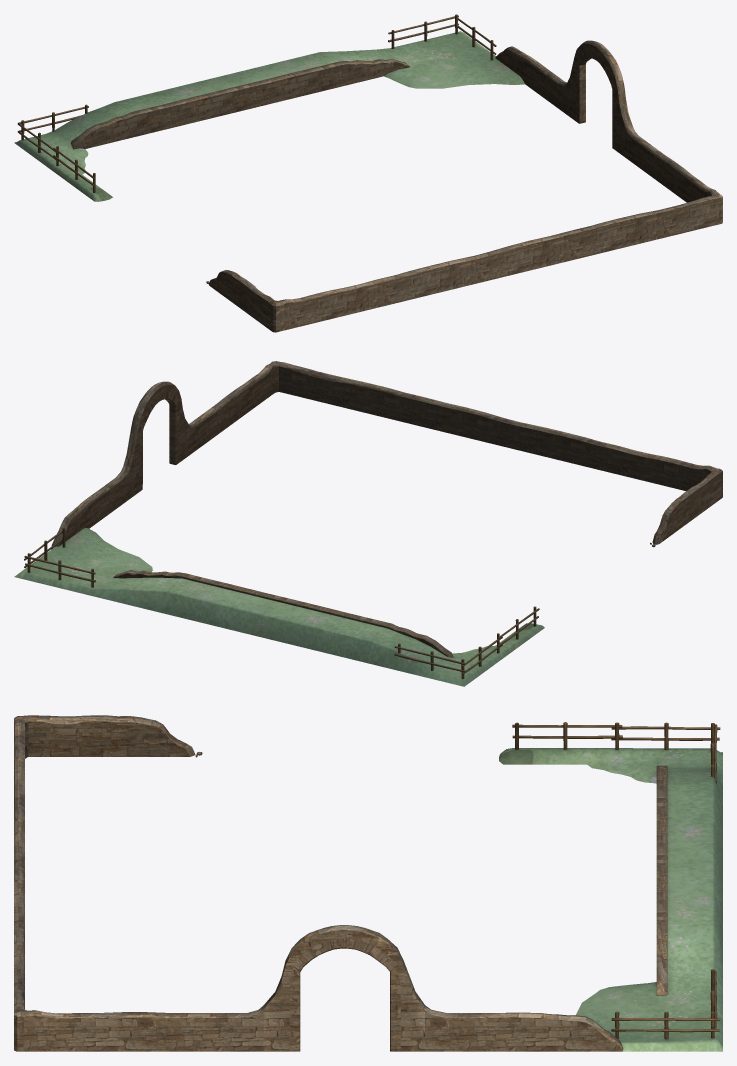
File: set_site.glb
3 views of the same model, one above another, from view 1: azimuth 30°, elevation 25°; view 2: azimuth 150°, elevation 25°; view 3: azimuth 270°, elevation 25° (orthographic). The views are drawn at different scales.
Parts seen in each view (by area): view 1: site_all; view 2: site_all; view 3: site_all.
Boxes of the visible parts, box(x1,y1,x2,y2) form: site_all: box(14, 14, 722, 332); site_all: box(14, 361, 722, 686); site_all: box(14, 715, 722, 1051).
Size of what is drawn, in the model's own units: 32.01 by 6.27 by 31.99.
Materials: 1 (1 with a texture image).
